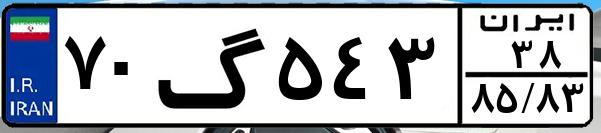0: (110, 28, 156, 98)
3: (385, 28, 445, 110), (560, 70, 590, 125), (508, 27, 537, 80)
4: (330, 28, 385, 110)
5: (270, 28, 330, 110), (495, 70, 520, 125)
7: (57, 26, 110, 100)
8: (537, 27, 568, 80), (470, 70, 495, 125), (535, 70, 560, 125)
گ: (156, 12, 270, 120)
